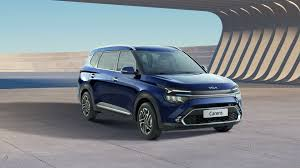car: (73, 44, 242, 141)
